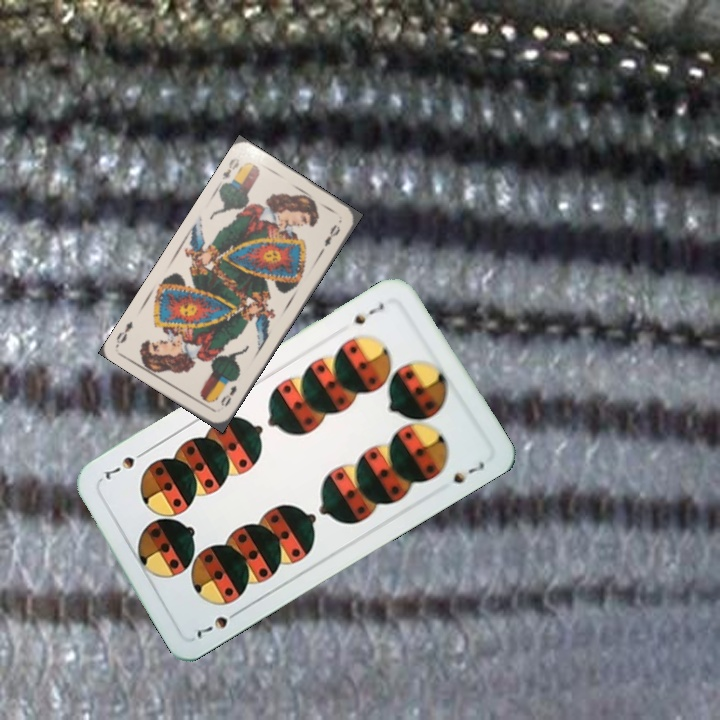EO: (218, 153, 242, 182), (217, 381, 239, 409)
S7: (192, 605, 244, 640), (348, 298, 387, 327)
